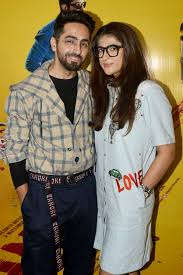Bad: (6, 10, 176, 275)
